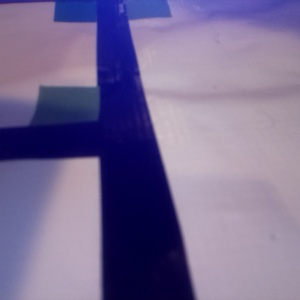bottom_left: (54, 1, 124, 22)
bottom_right: (96, 1, 171, 19)
top_left: (30, 85, 142, 156)
